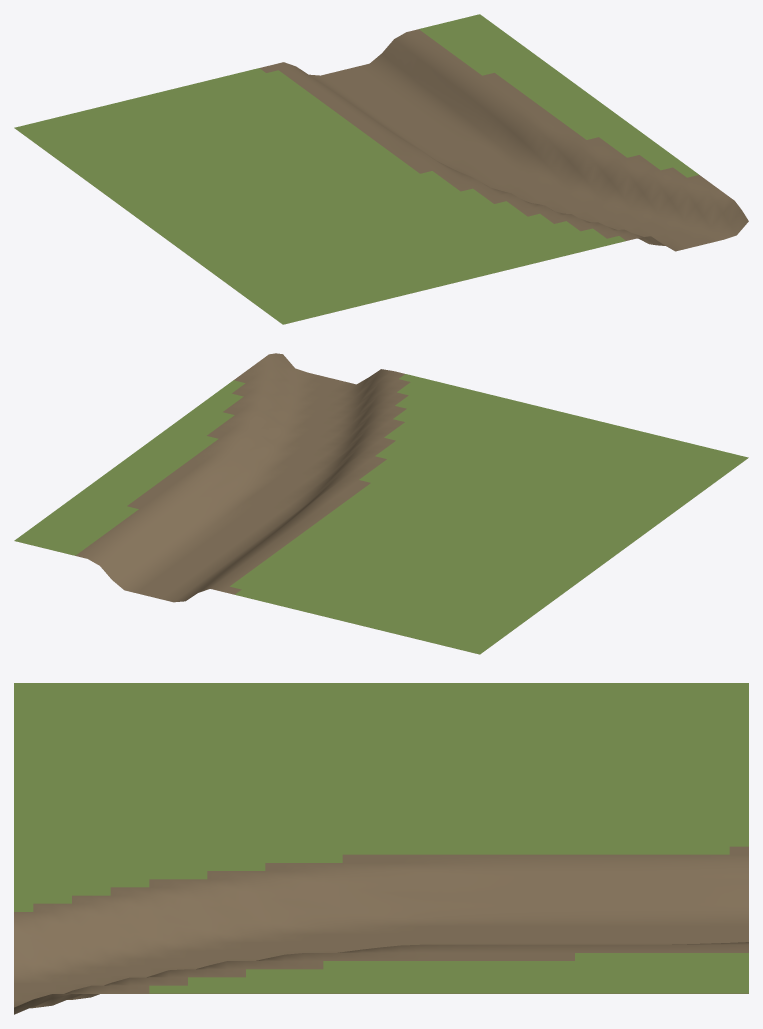
Rendered from region_1_3.glb.
3 views of the same model, one above another, from view 1: azimuth 30°, elevation 25°; view 2: azimuth 150°, elevation 25°; view 3: azimuth 270°, elevation 25° (orthographic). The views are drawn at different scales.
Visible parts, largest first — view 1: OD_Meadow.019, OD_Ground.019; view 2: OD_Meadow.019, OD_Ground.019; view 3: OD_Meadow.019, OD_Ground.019.
Boxes of the visible parts, x1,y1,x2,y2 form: OD_Meadow.019: (14, 14, 698, 324); OD_Ground.019: (259, 29, 748, 251); OD_Meadow.019: (14, 374, 748, 654); OD_Ground.019: (75, 353, 410, 602); OD_Meadow.019: (14, 683, 748, 993); OD_Ground.019: (14, 846, 748, 1014).
Size of the model in its own units: 31.52 by 1.46 by 31.52.
